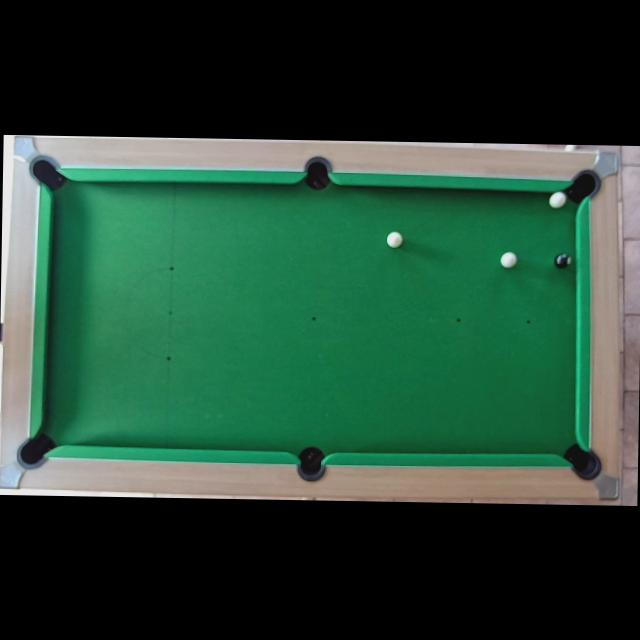Ball: (554, 252, 570, 268), (548, 192, 564, 208), (500, 252, 516, 268), (387, 232, 402, 247)
